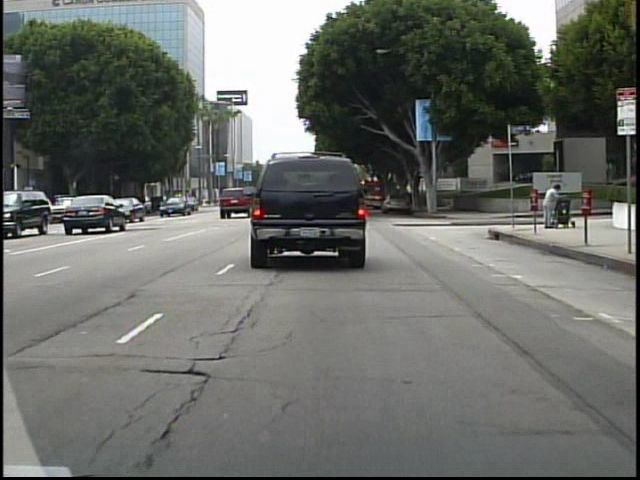person: (541, 178, 562, 232)
